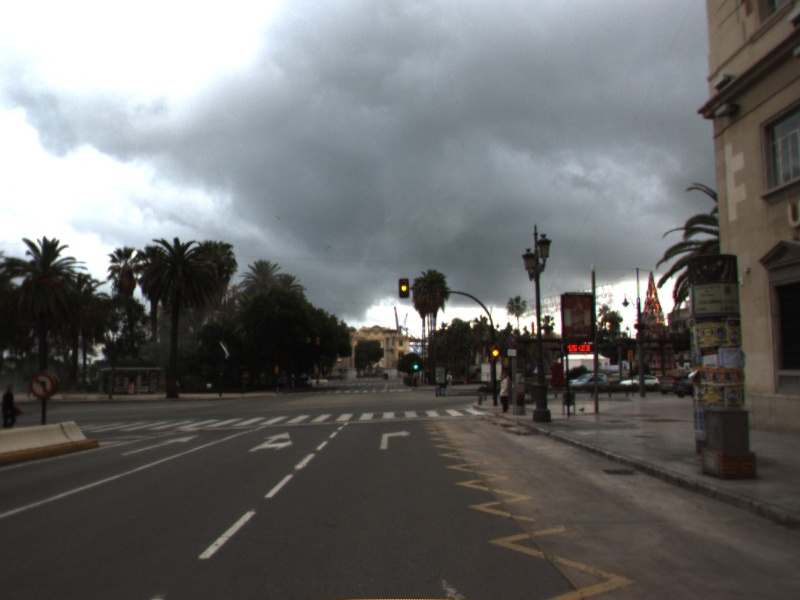RIGHT: (378, 427, 414, 452)
STRAIGHT: (118, 432, 202, 458)
STRAIGHT_RIGHT: (245, 429, 295, 454)
